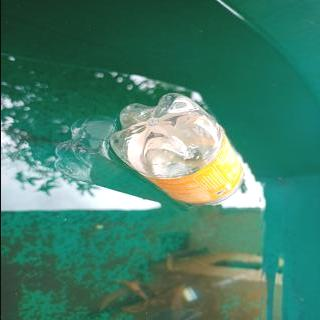bottle: (106, 90, 246, 209)
